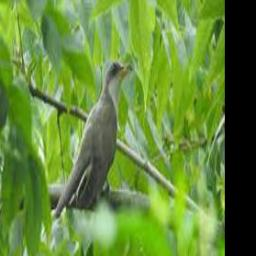Cuckoo: (54, 60, 133, 218)
